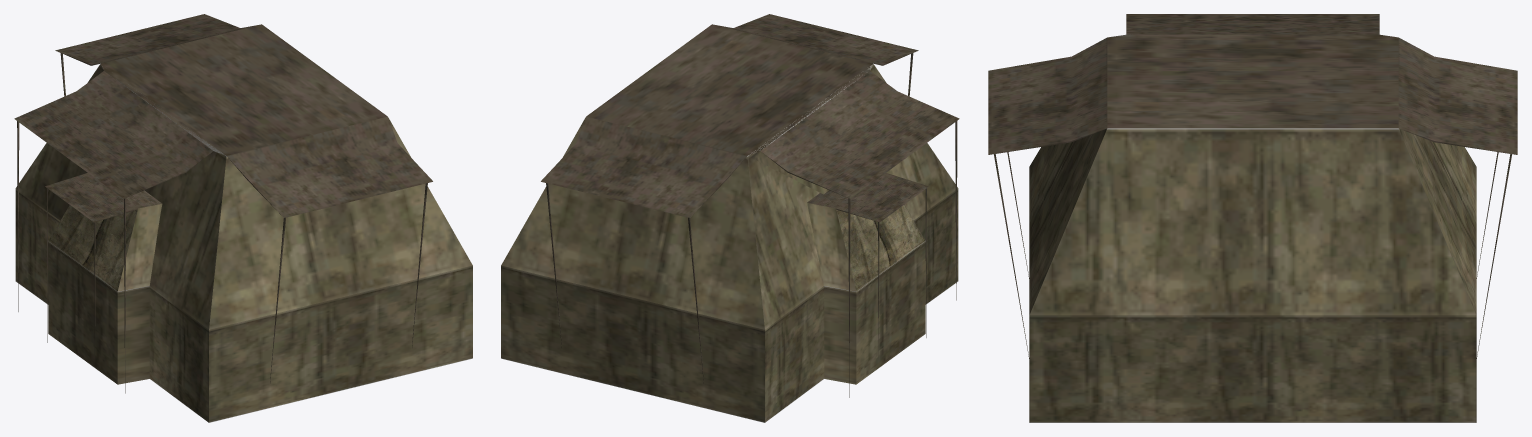
File: eqp_camping_tent_s4_l2.fbx
3 views of the same model, side by side, from view 1: azimuth 30°, elevation 25°; view 2: azimuth 150°, elevation 25°; view 3: azimuth 270°, elevation 25° (orthographic). The views are drawn at different scales.
Parts seen in each view (by area): view 1: mesh_node; view 2: mesh_node; view 3: mesh_node.
Boxes of the visible parts, box(x1,y1,x2,y2) form: mesh_node: box(14, 14, 472, 422); mesh_node: box(501, 14, 959, 422); mesh_node: box(988, 14, 1517, 422).
Bounding box in the file's own units: 5.14 × 3.67 × 6.63.
Materials: 1 (1 with a texture image).
